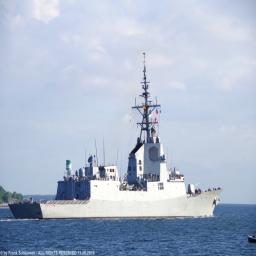Fragata: (10, 45, 227, 220)
